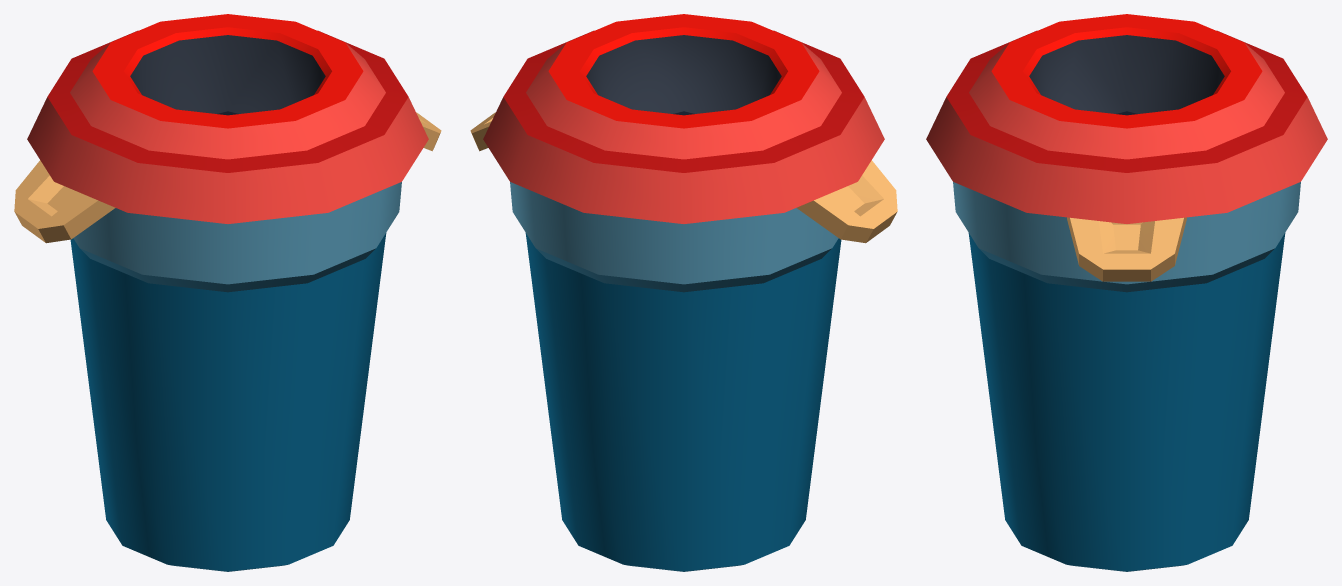
File: Final_trash_small.fbx
3 views of the same model, side by side, from view 1: azimuth 30°, elevation 25°; view 2: azimuth 150°, elevation 25°; view 3: azimuth 270°, elevation 25° (orthographic).
Visible parts, largest first — view 1: trash_small; view 2: trash_small; view 3: trash_small.
Boxes of the visible parts, left/top/right/bottom form: trash_small: left=14, top=14, right=441, bottom=571; trash_small: left=470, top=14, right=897, bottom=571; trash_small: left=926, top=14, right=1327, bottom=571.
Size of the model in its own units: 55.06 by 59.13 by 47.5.
